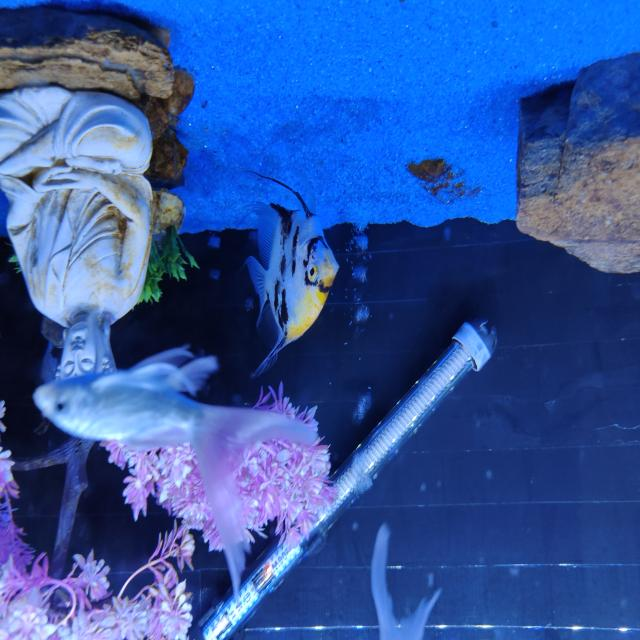Fish: (33, 347, 315, 592), (245, 178, 337, 375), (370, 523, 440, 639)
